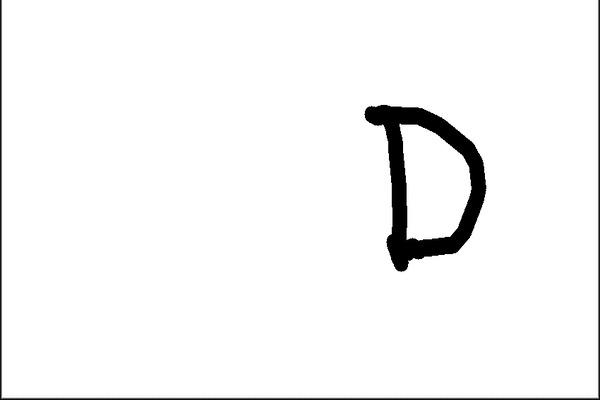D: (359, 99, 494, 275)
